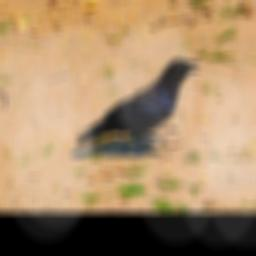Crow: (75, 58, 200, 155)
